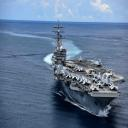Portanaves: (51, 20, 127, 120)
